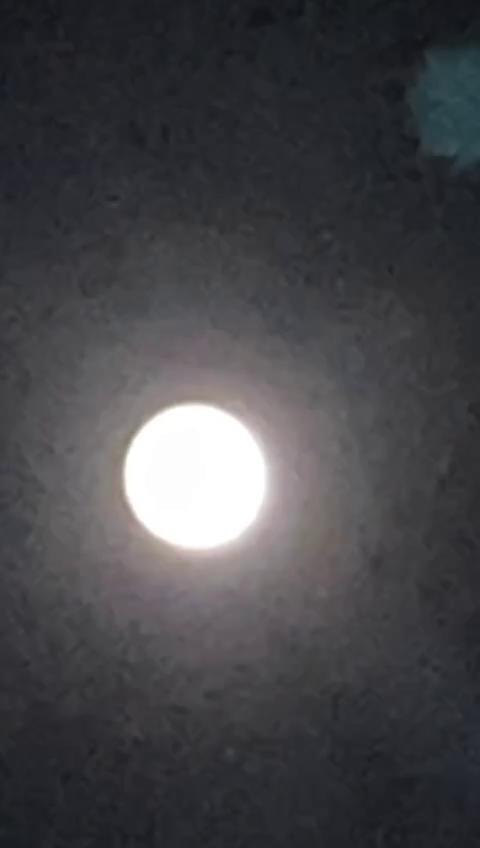moon: (107, 383, 274, 574)
